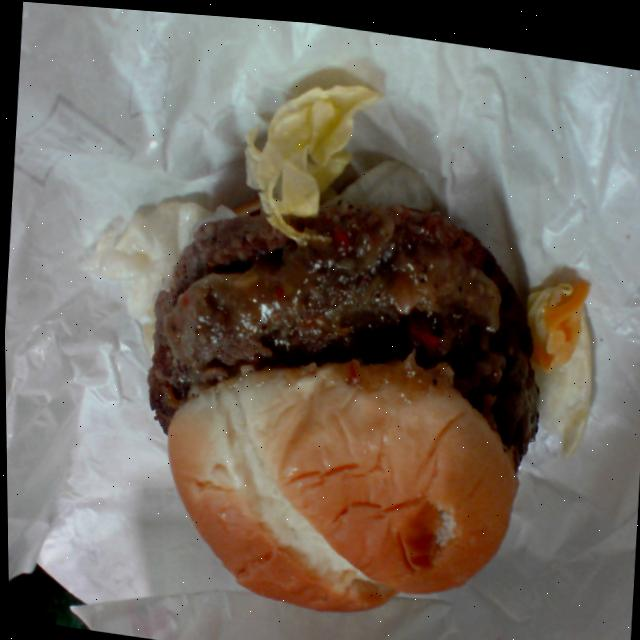汉堡快餐: (118, 40, 617, 640)
